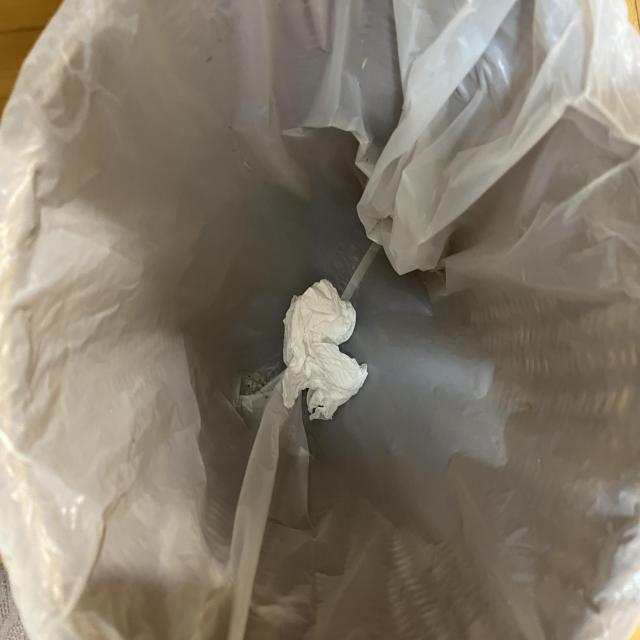Paper: (266, 271, 370, 447)
